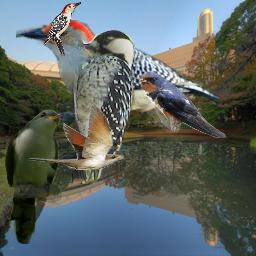Cuckoo: (4, 109, 62, 244), (29, 104, 124, 170)
Swallow: (138, 71, 227, 138)
Woodpecker: (16, 20, 219, 131), (72, 29, 135, 184), (43, 2, 81, 57)
